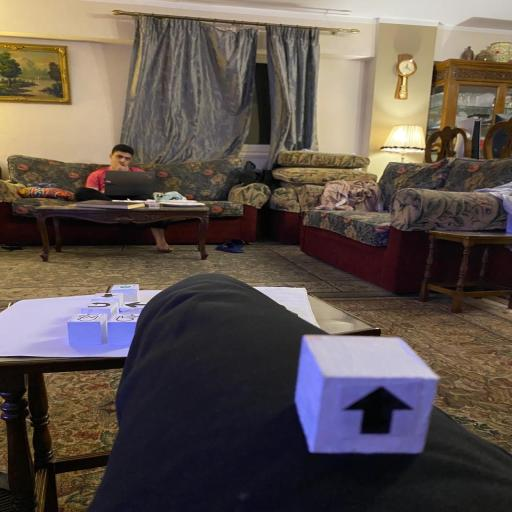Up: (294, 334, 438, 455)
